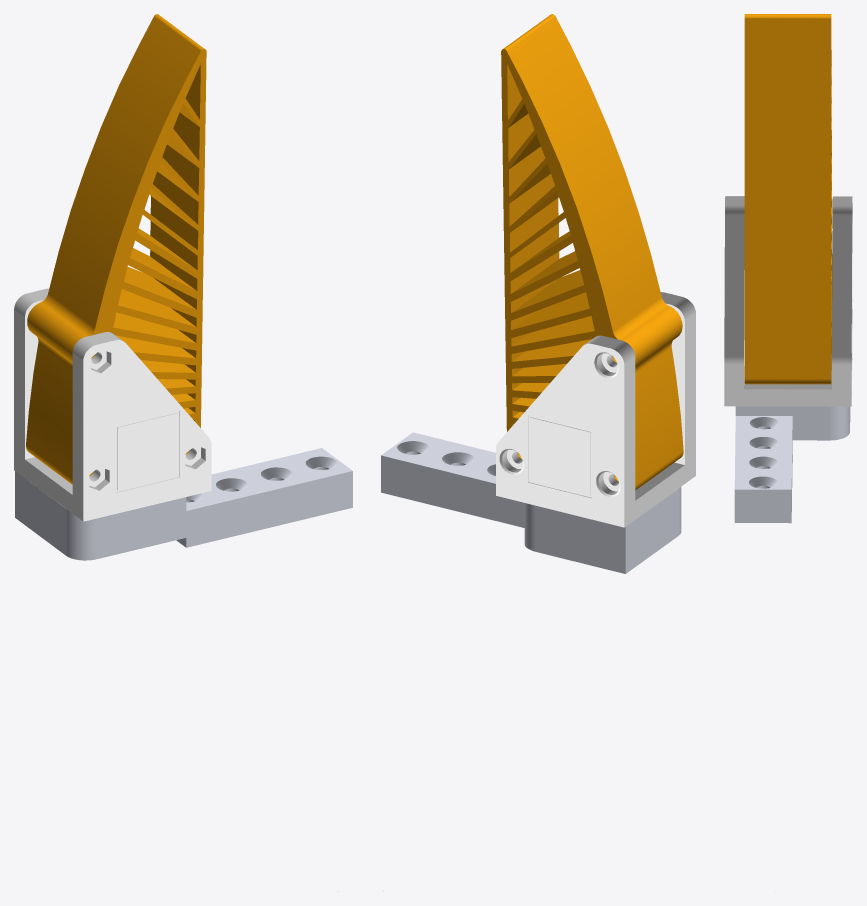
File: left_finger.dae
3 renders of one model, left to right at view 1: azimuth 30°, elevation 25°; view 2: azimuth 150°, elevation 25°; view 3: azimuth 270°, elevation 25°, orthographic. The views are drawn at different scales.
Visible parts, largest first — view 1: ??1, _?1, ___3?_?____Y__a2?3_?_?Y__?D1; view 2: ??1, _?1, ___3?_?____Y__a2?3_?_?Y__?D1; view 3: ??1, _?1, ___3?_?____Y__a2?3_?_?Y__?D1.
Boxes of the visible parts, <box> form: ??1: <box>26,14,206,484</box>; _?1: <box>14,288,211,521</box>; ___3?_?____Y__a2?3_?_?Y__?D1: <box>15,448,352,560</box>; ??1: <box>501,14,683,490</box>; _?1: <box>496,292,695,527</box>; ___3?_?____Y__a2?3_?_?Y__?D1: <box>381,432,681,573</box>; ??1: <box>744,14,832,384</box>; _?1: <box>724,196,852,406</box>; ___3?_?____Y__a2?3_?_?Y__?D1: <box>734,406,850,523</box>.
Bounding box in the file's own units: 0.0885 × 0.0383 × 0.2668.
